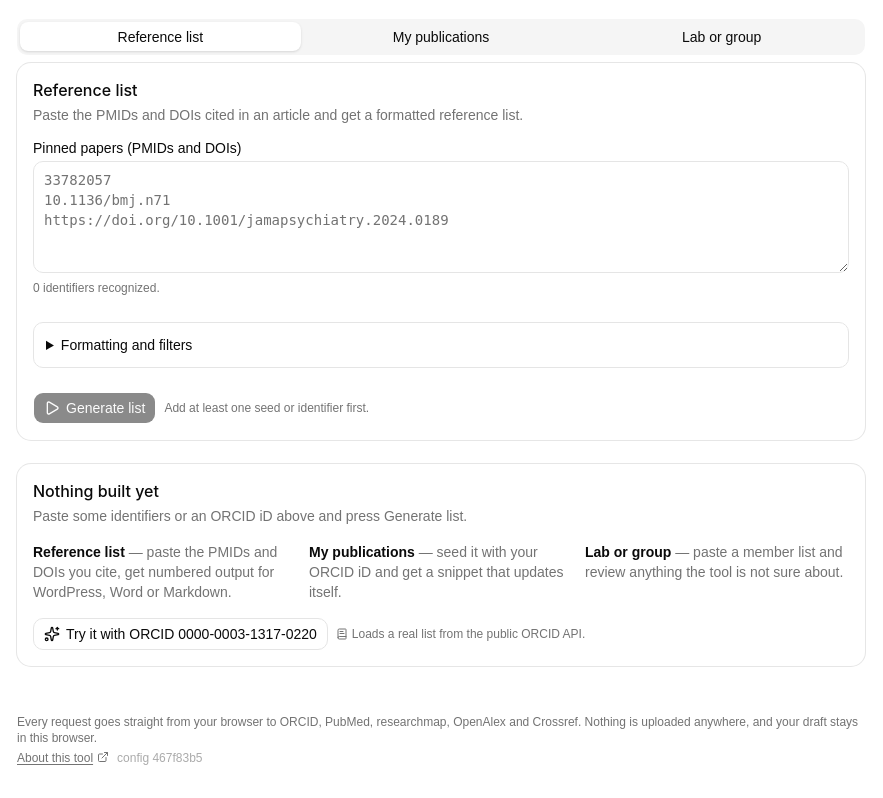
Test: running a build › shows warnings instead of swallowing them
(page scrolled)
Click the button "Try it with ORCID 0000-0003-1317-0220". click: (180, 634)
box: [33,618,328,650]
(page scrolled)
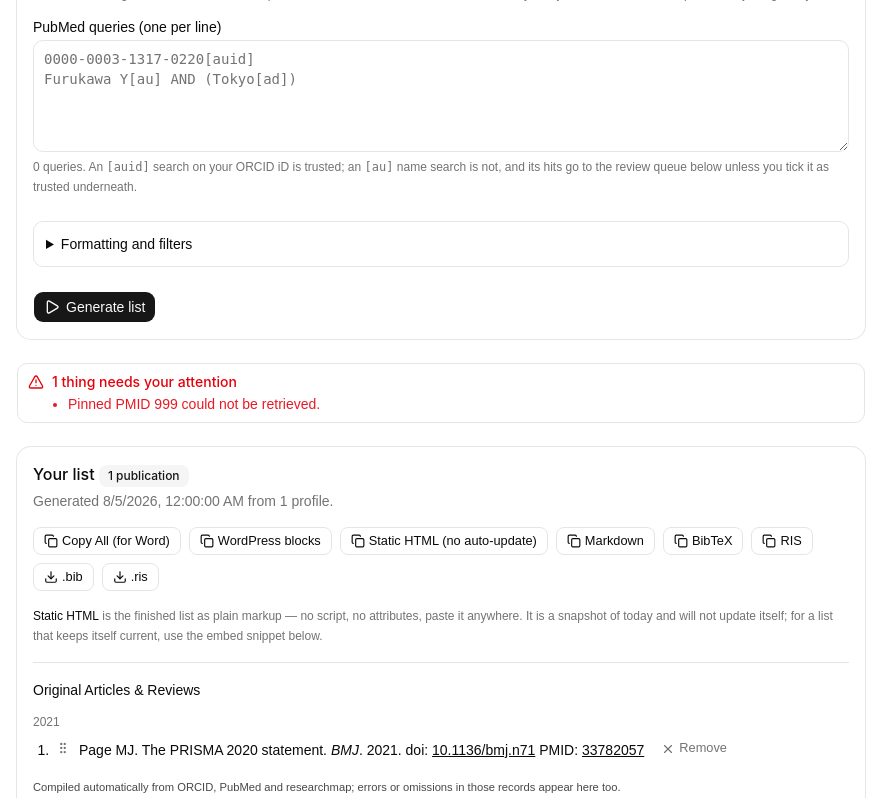
Expected: the text "Pinned PMID 999 could not be retrieved." is shown, [68,396,320,412]
Expected: the message "1 thing needs your attention Pinned PMID 999 could not be retrieved." is shown, [17,363,865,423]
